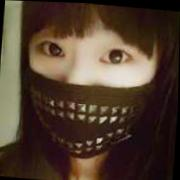WRONG: (16, 7, 168, 166)
